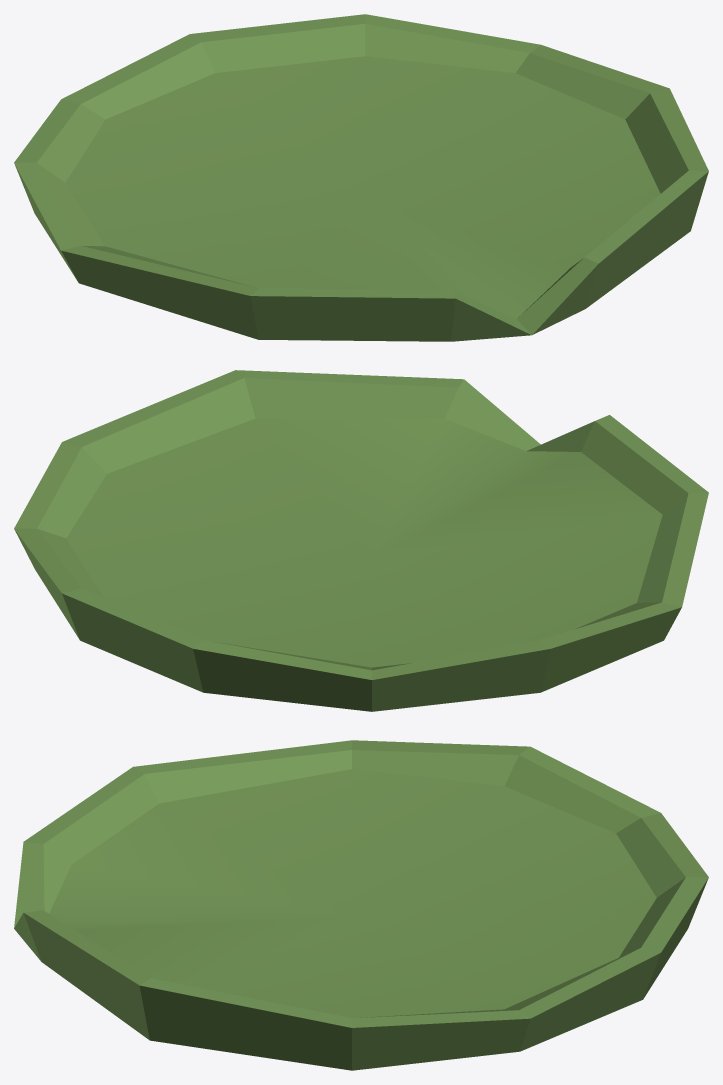
File: lotusleaf1.FBX
The picture shows the model from 3 angles, top to bottom: view 1: azimuth 30°, elevation 25°; view 2: azimuth 150°, elevation 25°; view 3: azimuth 270°, elevation 25°; orthographic projection.
Parts seen in each view (by area): view 1: lotusleaf1; view 2: lotusleaf1; view 3: lotusleaf1.
Part boxes in pixels (x1,y1,x2,y2): lotusleaf1: (14, 14, 708, 341); lotusleaf1: (14, 370, 708, 711); lotusleaf1: (14, 740, 708, 1070).
Size of the model in its own units: 62.45 by 5.95 by 60.81.
